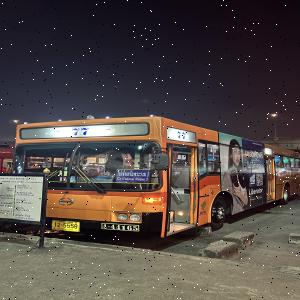BMTA-bus: (12, 117, 300, 239)
Bus Line Number: (64, 125, 98, 137)
Bus Side Number: (100, 223, 141, 232)
Destination Sign: (116, 169, 152, 183)
